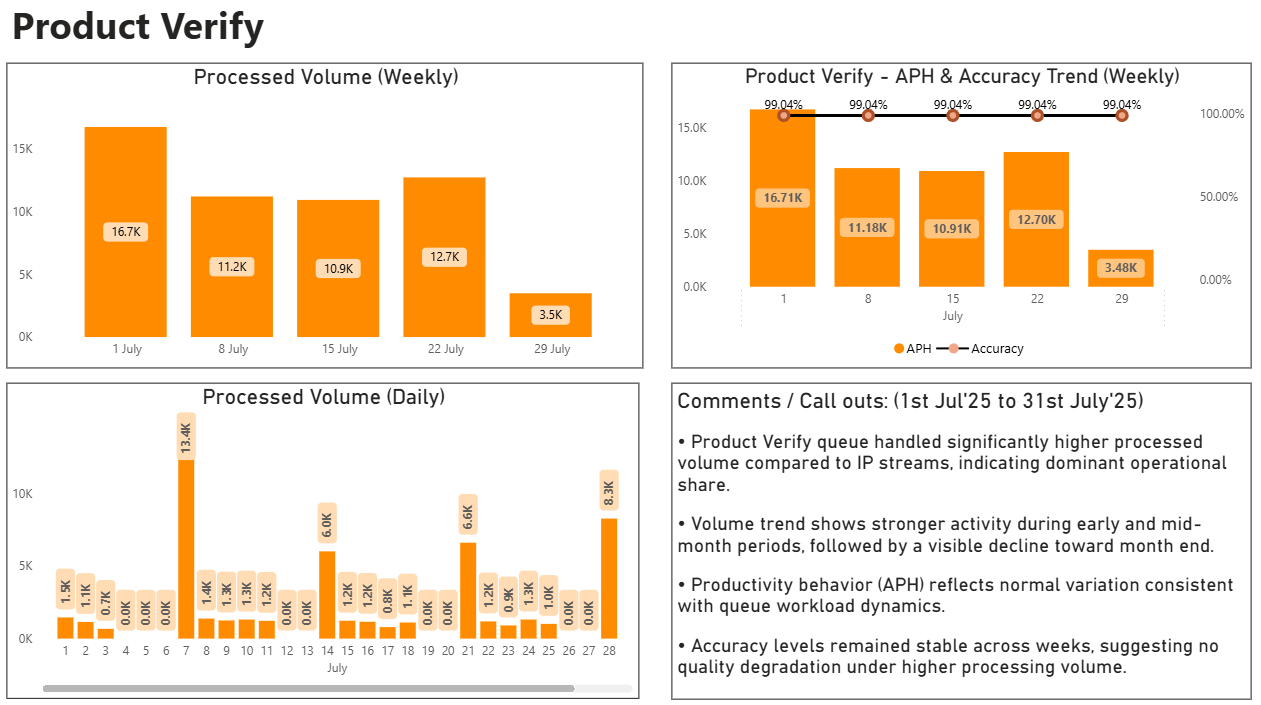

The dashboard page shown, as its layout file describes it:
{"tool":"powerbi","page":{"name":"Product Verify","canvas":[1280,720],"ordinal":1},"visuals":[{"type":"clusteredColumnChart","title":"Processed Volume (Weekly)","fields":{"Series":["Sheet1.Source"],"Y":["CountNonNull(Sheet1.Product ID)"],"Category":["Sheet1.Week Start (Custom)","Sheet1.Week Start (Custom).Variation.Date Hierarchy.Year","Sheet1.Week Start (Custom).Variation.Date Hierarchy.Quarter","Sheet1.Week Start (Custom).Variation.Date Hierarchy.Month","Sheet1.Week Start (Custom).Variation.Date Hierarchy.Day"]},"box":[17.1,68.5,637.1,305.7],"z":0},{"type":"clusteredColumnChart","title":"Processed Volume (Daily)","fields":{"Series":["Sheet1.Source"],"Category":["DateTable.Date.Variation.Date Hierarchy.Month","DateTable.Date.Variation.Date Hierarchy.Day"],"Y":["DateTable.Daily Processed Volume"]},"box":[17.5,388.8,632.5,316.2],"z":1000},{"type":"textbox","box":[17.1,0,398.6,59.9],"z":2000},{"type":"lineClusteredColumnComboChart","title":"Product Verify - APH & Accuracy Trend (Weekly)","fields":{"Y":["CountNonNull(Sheet1.APH)"],"Category":["Sheet1.Week Start (Custom).Variation.Date Hierarchy.Month","Sheet1.Week Start (Custom).Variation.Date Hierarchy.Day"],"Y2":["Sheet1.Avg Accuracy %"]},"box":[682.3,68.5,579.6,305.7],"z":3000},{"type":"textbox","box":[682.3,530.7,579.6,174.9],"z":4000},{"type":"textbox","box":[682,389,580,317],"z":5000}]}

Visuals, with their boxes in screenshot pixels (x1, y1, x2, y2), scaled from the page's 1280x720 canvas onto the 1261x705 screenshot:
"Processed Volume (Weekly)" clusteredColumnChart: [x1=17, y1=67, x2=644, y2=366]
"Processed Volume (Daily)" clusteredColumnChart: [x1=17, y1=381, x2=640, y2=690]
textbox: [x1=17, y1=0, x2=410, y2=59]
"Product Verify - APH & Accuracy Trend (Weekly)" lineClusteredColumnComboChart: [x1=672, y1=67, x2=1243, y2=366]
textbox: [x1=672, y1=520, x2=1243, y2=691]
textbox: [x1=672, y1=381, x2=1243, y2=691]
